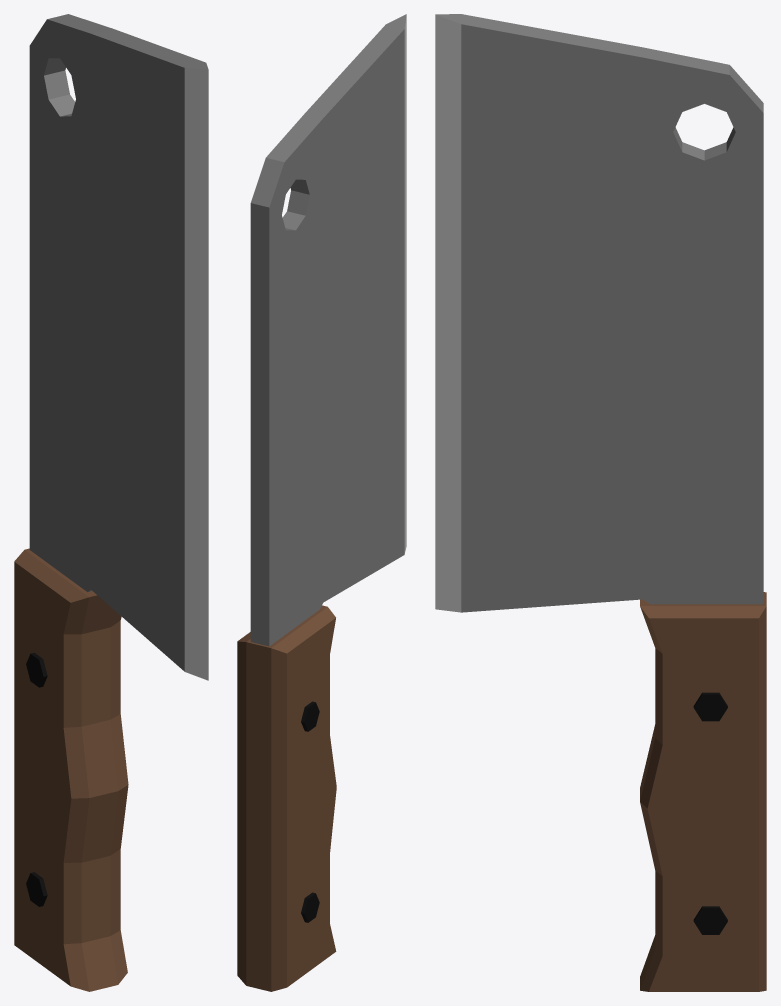
File: scene_6TLxwUTnBU.glb
3 renders of one model, left to right at view 1: azimuth 30°, elevation 25°; view 2: azimuth 150°, elevation 25°; view 3: azimuth 270°, elevation 25°, orthographic. The views are drawn at different scales.
Visible parts, largest first — view 1: Cleaver; view 2: Cleaver; view 3: Cleaver.
Part boxes in pixels (left/top/right/bottom): Cleaver: left=14, top=14, right=208, bottom=991; Cleaver: left=237, top=14, right=406, bottom=991; Cleaver: left=435, top=14, right=766, bottom=991.
Bounding box in the file's own units: 0.0236 × 0.3441 × 0.1065.
